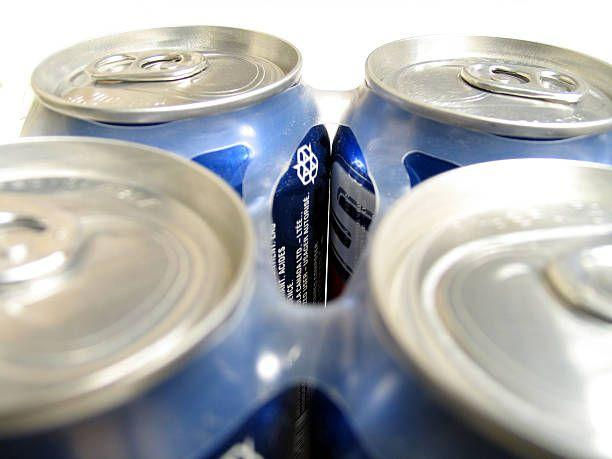metal: (0, 134, 291, 459), (316, 154, 612, 459), (28, 21, 333, 307), (333, 31, 584, 301)
